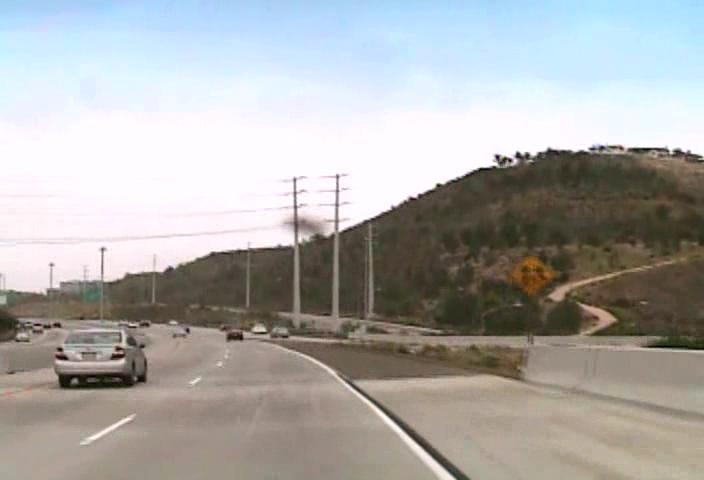addedLane: (508, 252, 553, 298)
